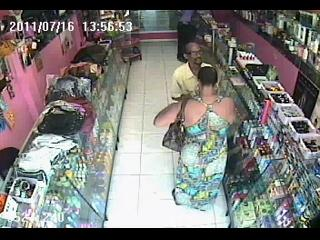Normal: (153, 66, 238, 210), (170, 42, 204, 102), (162, 99, 188, 152), (176, 11, 200, 64), (121, 46, 142, 65)
